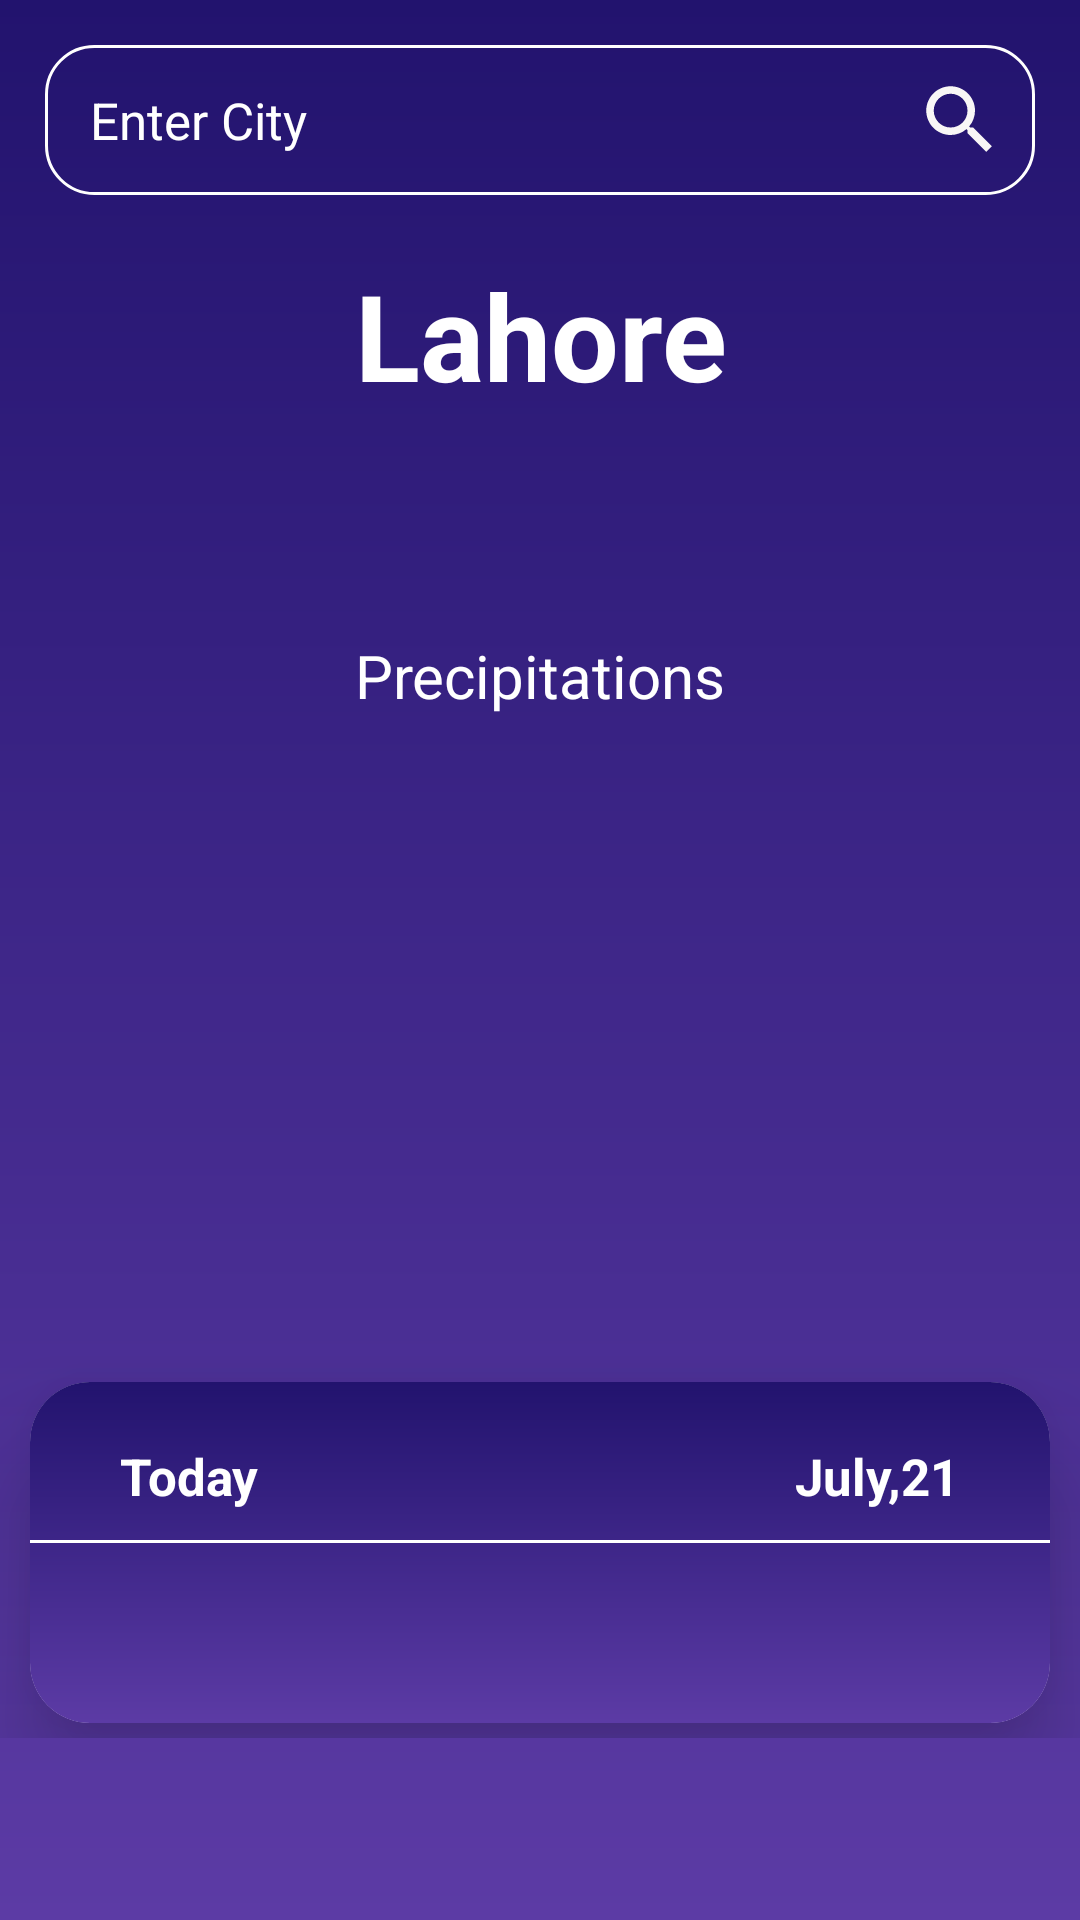

Where to tap for icons on this 1080×1920 app screen, as point (x, y):
search: point (959, 119)
